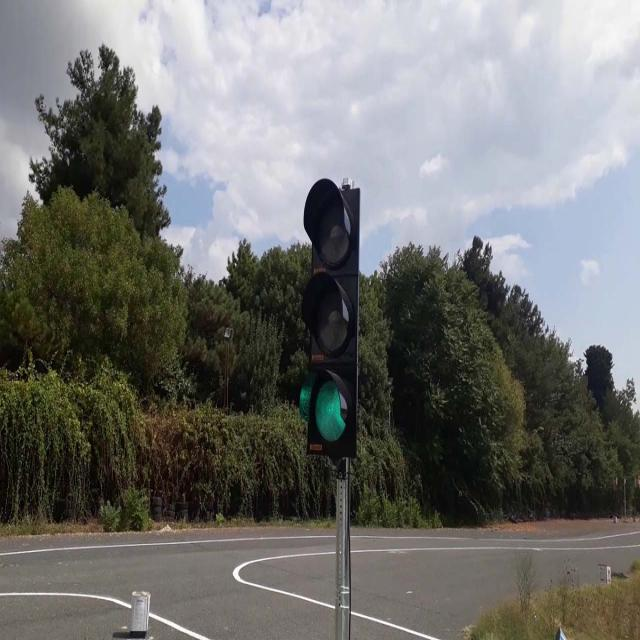yesil: (306, 180, 356, 454)
